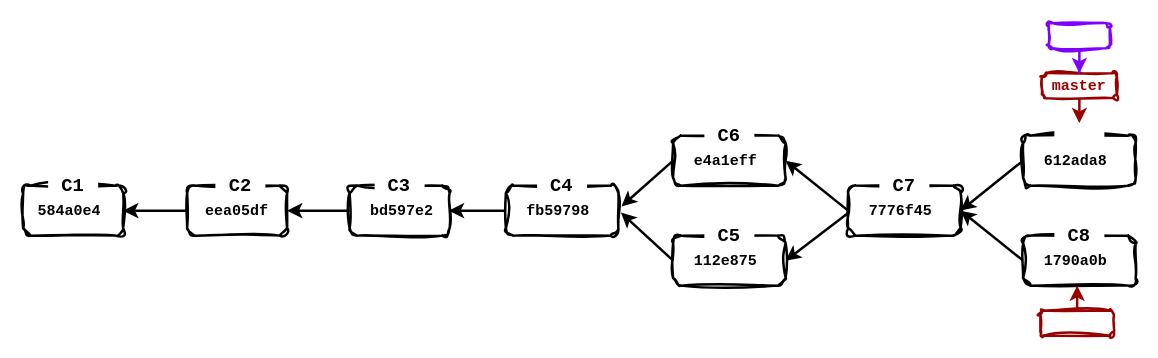
The diagram is 1158 pixels wide and 358 high, and some of its shapes have lost their labels. The centre of each missing label's shape, as x and y in pixels:
C9: the point at 1079,135
HEAD: the point at 1078,35
testing: the point at 1076,322
